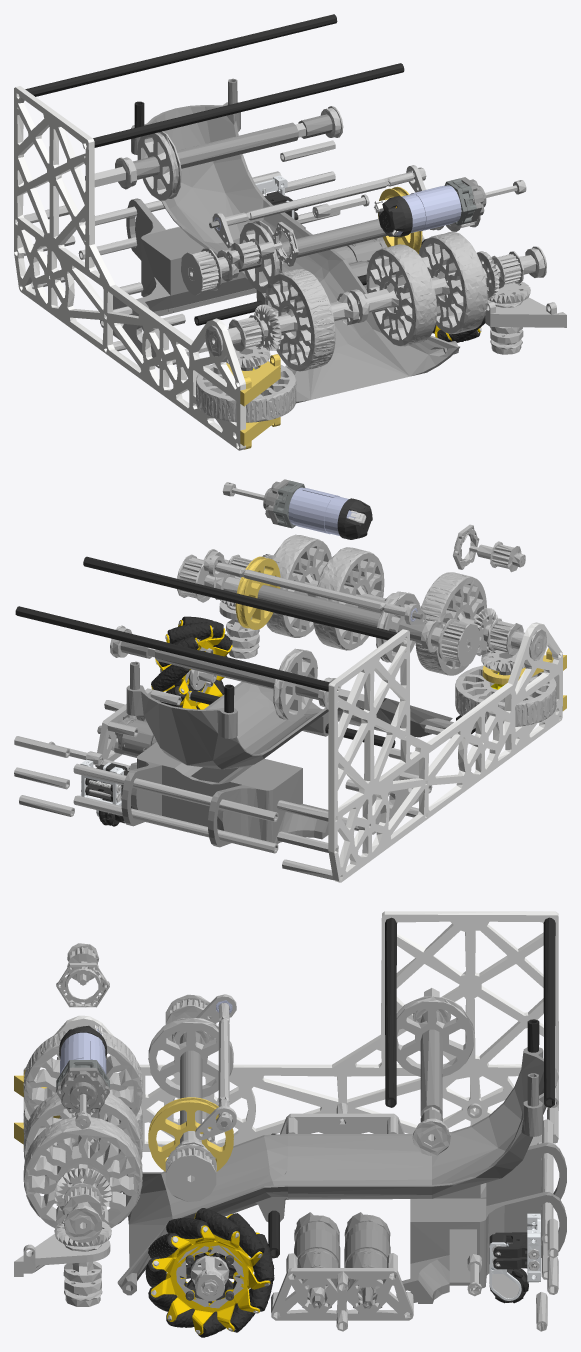
The model's file is robot.glb.
3 views of the same model, one above another, from view 1: azimuth 30°, elevation 25°; view 2: azimuth 150°, elevation 25°; view 3: azimuth 270°, elevation 25° (orthographic). The views are drawn at different scales.
Parts seen in each view (by area): view 1: INFERRED_INTAKE, INFERRED_INDEXER_f6f6f3, INFERRED_CHASSIS_RAMP_5a5a5a, SOURCE_SHOOTER, INFERRED_CHASSIS_5a5a5a, INFERRED_CHASSIS, INFERRED_INDEXER, SOURCE_SHOOTER_5a5a5a, INFERRED_DRIVETRAIN, INFERRED_INTAKE_97a3da, INFERRED_INDEXER_5a5a5a, INFERRED_INTAKE_e8ad23 (+4 smaller); view 2: INFERRED_INDEXER_f6f6f3, INFERRED_INTAKE, SOURCE_SHOOTER, INFERRED_CHASSIS_RAMP_5a5a5a, INFERRED_CHASSIS_5a5a5a, INFERRED_CHASSIS, INFERRED_DRIVETRAIN, INFERRED_INDEXER, SOURCE_SHOOTER_5a5a5a, INFERRED_INTAKE_97a3da, INFERRED_INDEXER_5a5a5a, SOURCE_SHOOTER_e8ad23 (+8 smaller); view 3: INFERRED_CHASSIS_RAMP_5a5a5a, INFERRED_INDEXER_f6f6f3, INFERRED_INTAKE, SOURCE_SHOOTER, INFERRED_CHASSIS_5a5a5a, INFERRED_CHASSIS, INFERRED_DRIVETRAIN, INFERRED_INDEXER, INFERRED_CHASSIS_f4a100, INFERRED_DRIVETRAIN_5a5a5a, SOURCE_SHOOTER_e8ad23, SOURCE_SHOOTER_5a5a5a (+6 smaller).
Boxes of the visible parts, <box> form: INFERRED_INTAKE: <box>196,180,566,422</box>; INFERRED_INDEXER_f6f6f3: <box>14,86,245,450</box>; INFERRED_CHASSIS_RAMP_5a5a5a: <box>131,102,460,403</box>; SOURCE_SHOOTER: <box>25,14,480,293</box>; INFERRED_CHASSIS_5a5a5a: <box>126,198,375,316</box>; INFERRED_CHASSIS: <box>23,140,546,356</box>; INFERRED_INDEXER: <box>100,222,298,368</box>; SOURCE_SHOOTER_5a5a5a: <box>133,78,415,271</box>; INFERRED_DRIVETRAIN: <box>31,210,523,354</box>; INFERRED_INTAKE_97a3da: <box>401,185,461,233</box>; INFERRED_INDEXER_5a5a5a: <box>281,219,387,257</box>; INFERRED_INTAKE_e8ad23: <box>226,354,280,449</box>; INFERRED_INDEXER_f6f6f3: <box>328,622,562,882</box>; INFERRED_INTAKE: <box>202,482,556,734</box>; SOURCE_SHOOTER: <box>15,510,525,721</box>; INFERRED_CHASSIS_RAMP_5a5a5a: <box>126,682,453,769</box>; INFERRED_CHASSIS_5a5a5a: <box>121,626,328,847</box>; INFERRED_CHASSIS: <box>14,549,546,852</box>; INFERRED_DRIVETRAIN: <box>19,619,333,880</box>; INFERRED_INDEXER: <box>372,524,523,834</box>; SOURCE_SHOOTER_5a5a5a: <box>120,563,425,699</box>; INFERRED_INTAKE_97a3da: <box>288,487,348,535</box>; INFERRED_INDEXER_5a5a5a: <box>257,585,381,627</box>; SOURCE_SHOOTER_e8ad23: <box>235,556,280,629</box>; INFERRED_CHASSIS_RAMP_5a5a5a: <box>117,1047,558,1295</box>; INFERRED_INDEXER_f6f6f3: <box>23,911,558,1151</box>; INFERRED_INTAKE: <box>14,1030,179,1276</box>; SOURCE_SHOOTER: <box>67,917,555,1201</box>; INFERRED_CHASSIS_5a5a5a: <box>312,1142,566,1308</box>; INFERRED_CHASSIS: <box>54,1026,558,1308</box>; INFERRED_DRIVETRAIN: <box>63,1142,548,1337</box>; INFERRED_INDEXER: <box>56,962,404,1142</box>; INFERRED_CHASSIS_f4a100: <box>151,1214,270,1334</box>; INFERRED_DRIVETRAIN_5a5a5a: <box>294,1221,536,1308</box>; SOURCE_SHOOTER_e8ad23: <box>148,1097,233,1171</box>; SOURCE_SHOOTER_5a5a5a: <box>180,1011,538,1126</box>.
Bounding box in the file's own units: 0.3708 × 0.2259 × 0.4461.
